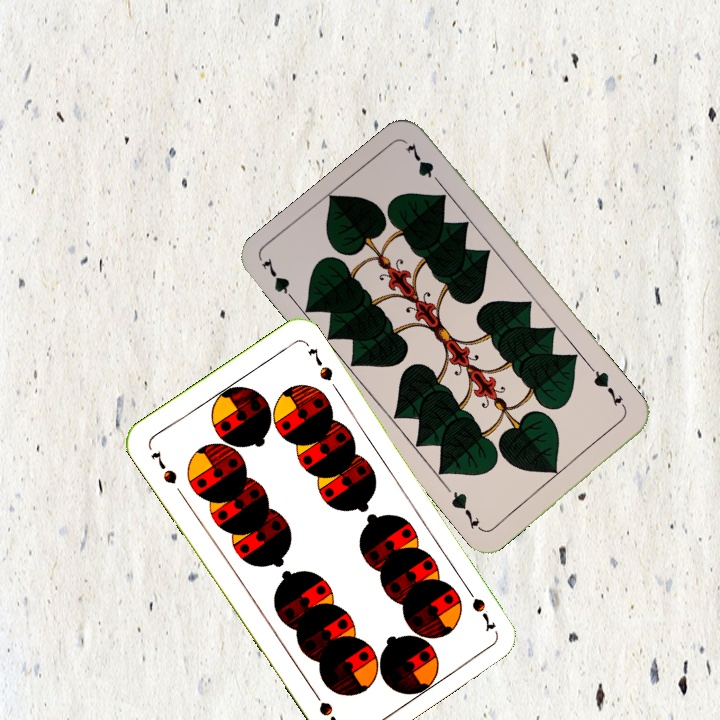G7: (257, 254, 301, 308), (587, 364, 630, 414)
S7: (460, 581, 499, 634), (147, 447, 180, 487)
